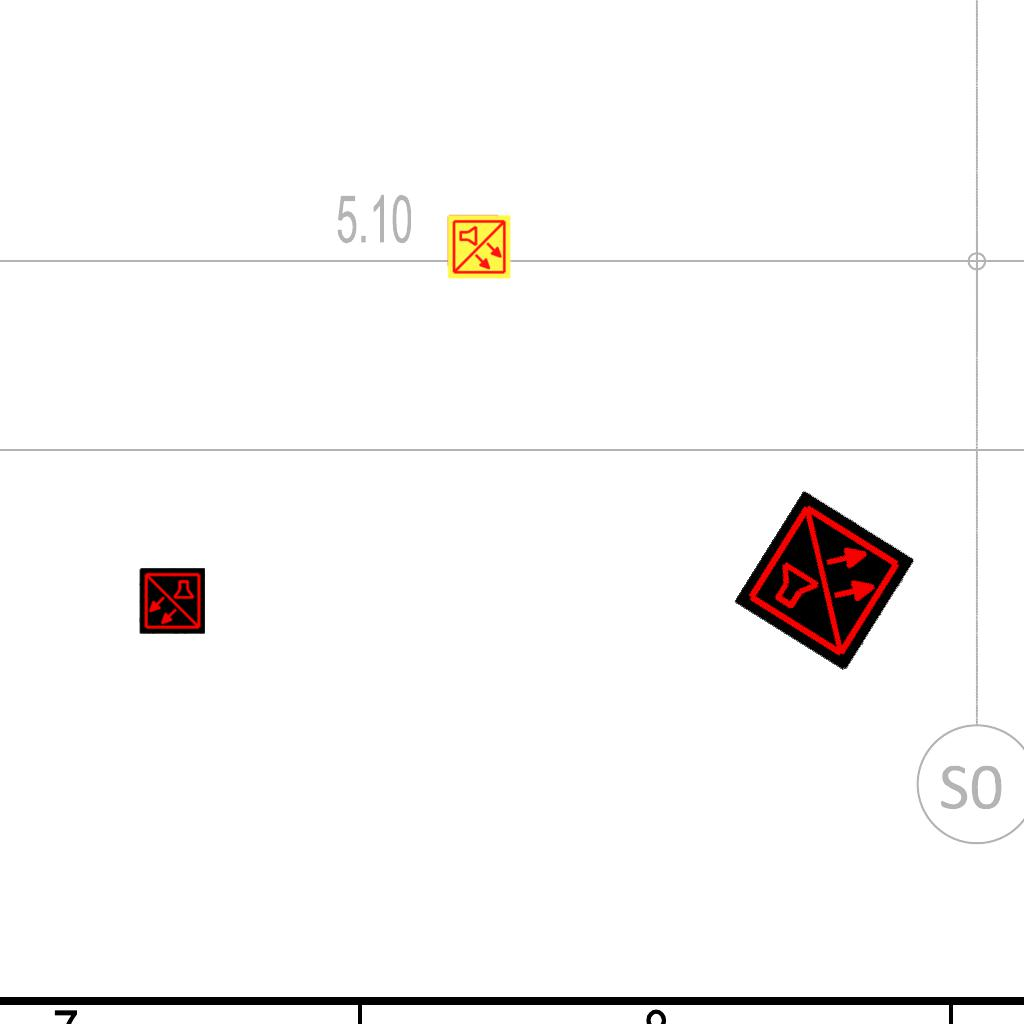OKW_Multisensormelder_(Kombination_optischer_Rauch-Kahlenmonoxid_Waerme-Melder): (734, 490, 916, 672), (446, 214, 512, 280), (139, 568, 205, 634)
